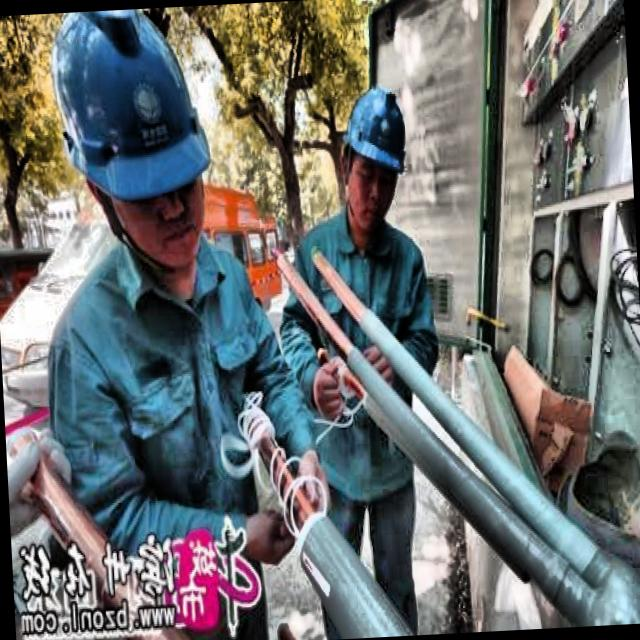helmet: (49, 7, 233, 284), (333, 72, 417, 241)
